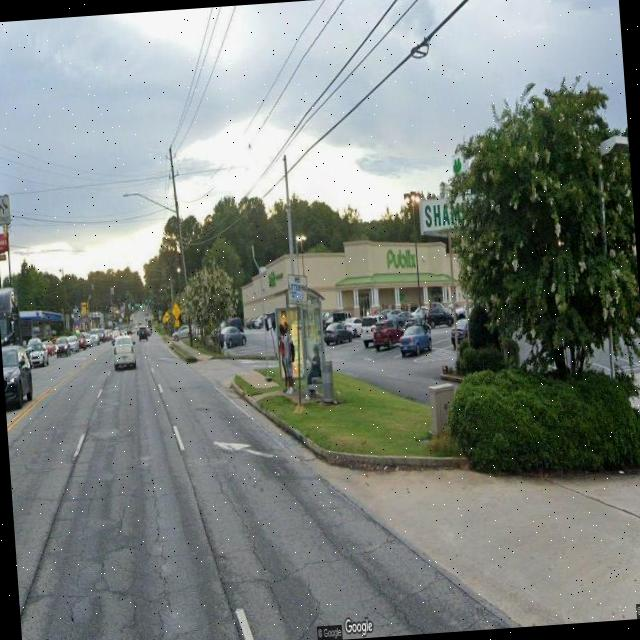seating: (306, 371, 324, 396)
shelter: (267, 282, 332, 408)
trash_can: (320, 359, 334, 402)
